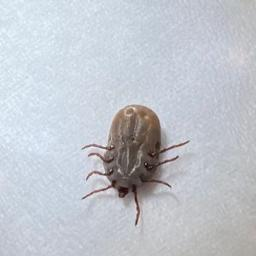Rhipicephalus sanguineus: (80, 104, 190, 227)
